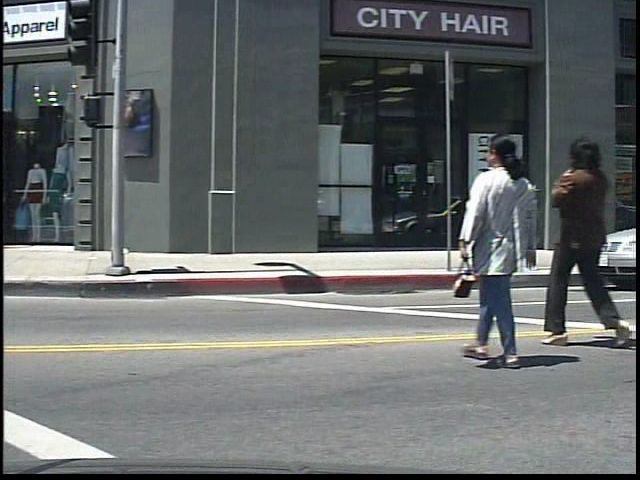person: (469, 121, 550, 371), (550, 125, 631, 352)
